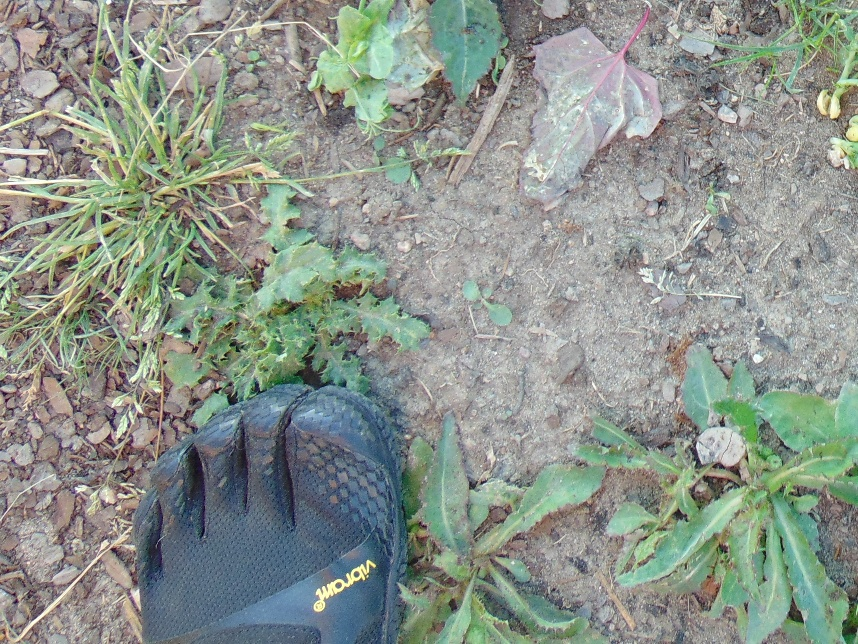crop: (310, 1, 403, 140), (815, 33, 858, 168)
weed: (595, 350, 858, 640), (185, 180, 431, 412), (67, 68, 267, 293), (401, 421, 599, 644), (12, 262, 126, 378), (428, 1, 506, 105), (754, 1, 857, 75), (463, 280, 513, 326), (367, 140, 417, 186)
